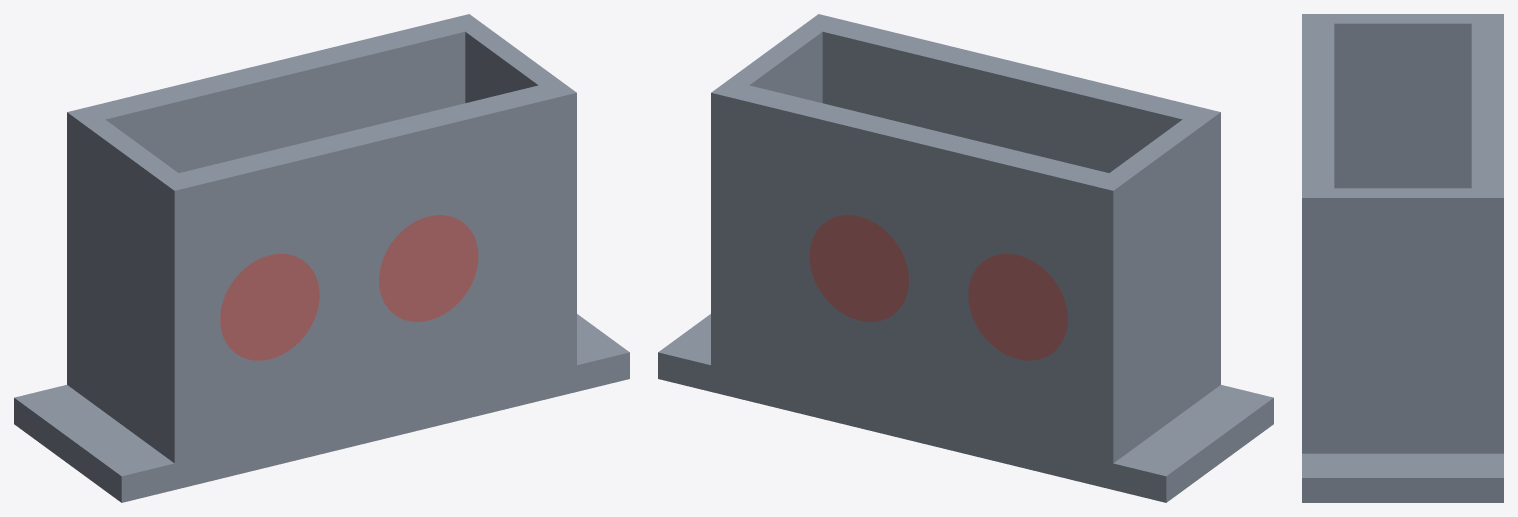
Rendered from step_03.glb.
3 views of the same model, side by side, from view 1: azimuth 30°, elevation 25°; view 2: azimuth 150°, elevation 25°; view 3: azimuth 270°, elevation 25° (orthographic). The views are drawn at different scales.
Parts seen in each view (by area): view 1: part__gearbox housing, removed__gearbox housing; view 2: part__gearbox housing, removed__gearbox housing; view 3: part__gearbox housing.
Part boxes in pixels (x1,y1,x2,y2): part__gearbox housing: (14,14,629,502); removed__gearbox housing: (220,215,478,360); part__gearbox housing: (658,14,1273,502); removed__gearbox housing: (809,215,1067,360); part__gearbox housing: (1302,14,1503,502).
Bounding box in the file's own units: 240 × 135 × 88.
